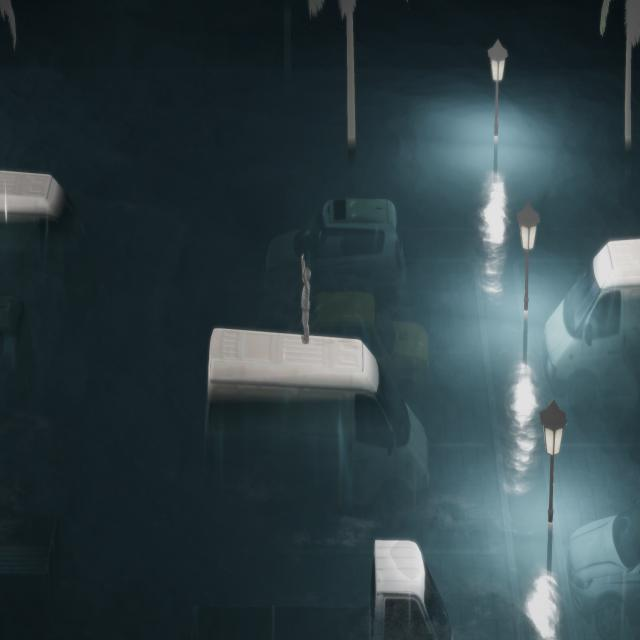Human: (295, 250, 314, 354)
